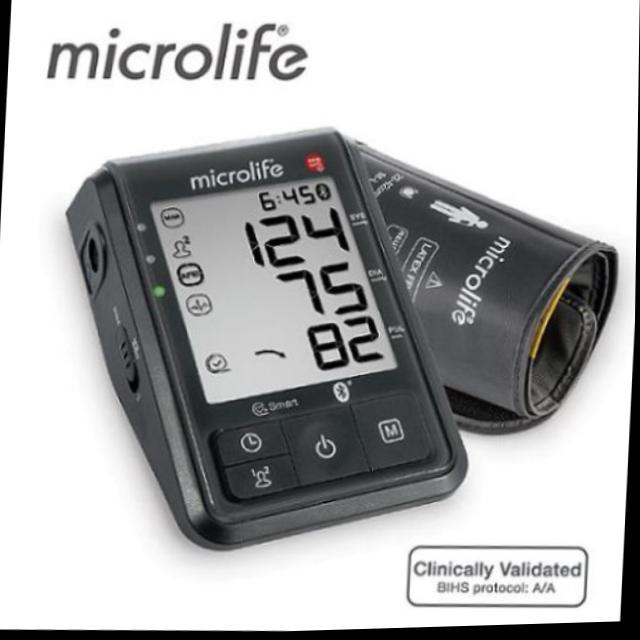dia: (266, 254, 376, 328)
pul: (299, 311, 390, 379)
ssd: (150, 165, 400, 408)
sys: (237, 199, 356, 275)
